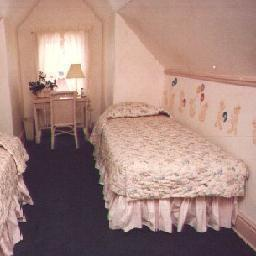Cama: (101, 110, 234, 229)
